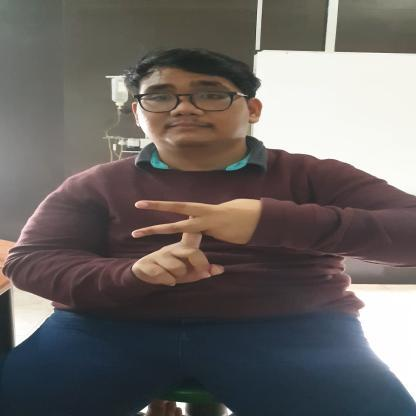F: (129, 196, 247, 288)
